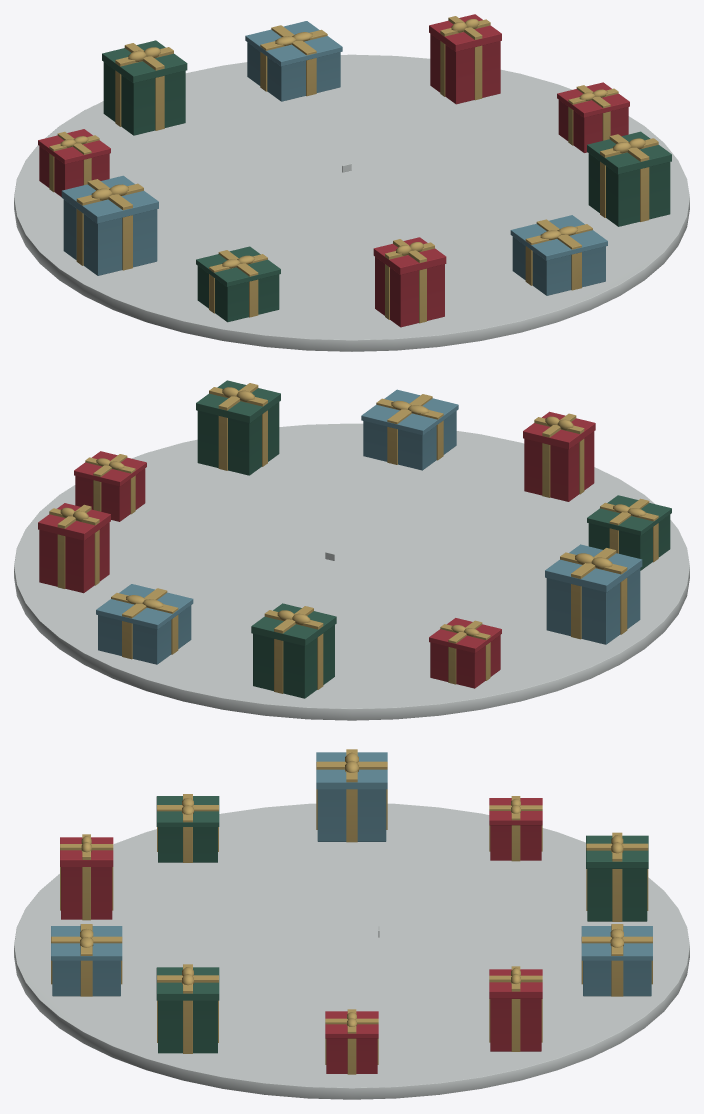
Rendered from landmark_winter_base.glb.
3 renders of one model, top to bottom at view 1: azimuth 30°, elevation 25°; view 2: azimuth 150°, elevation 25°; view 3: azimuth 270°, elevation 25°, orthographic.
Bounding box in the file's own units: 6.3 × 0.8268 × 6.3.
